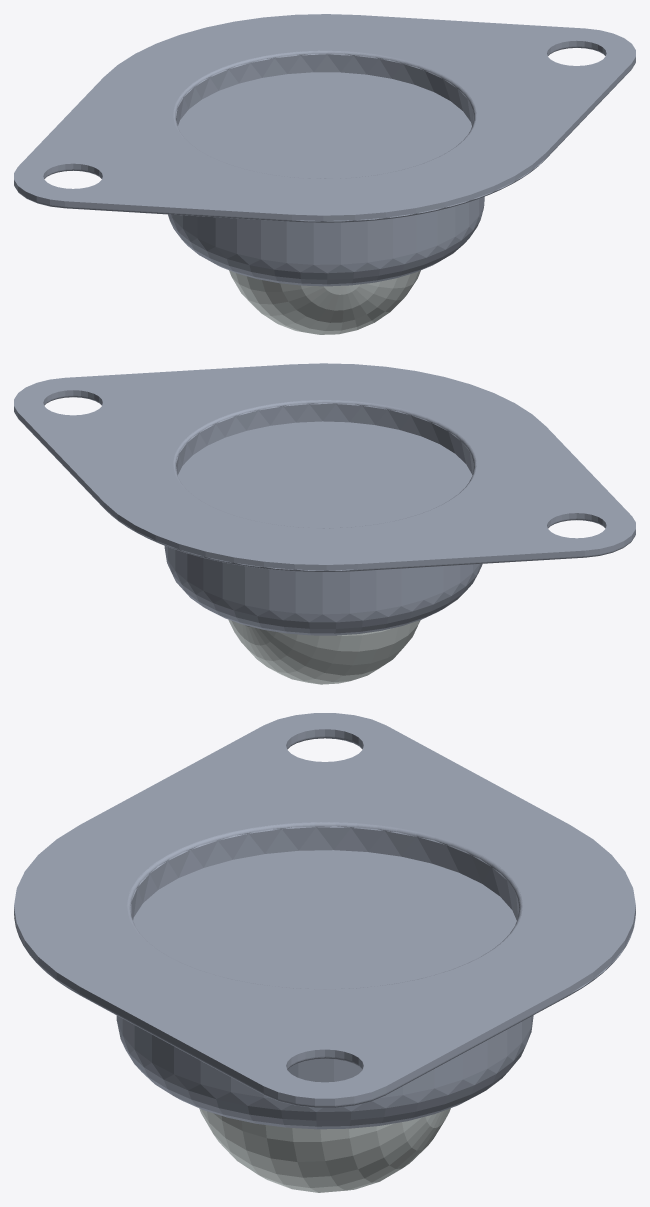
Rendered from caster_link.dae.
The picture shows the model from 3 angles, top to bottom: view 1: azimuth 30°, elevation 25°; view 2: azimuth 150°, elevation 25°; view 3: azimuth 270°, elevation 25°; orthographic projection. The views are drawn at different scales.
Parts seen in each view (by area): view 1: node_27ebc793_83b4_4cf2_ad4f_aabd8bd495b1_mesh0; view 2: node_27ebc793_83b4_4cf2_ad4f_aabd8bd495b1_mesh0; view 3: node_27ebc793_83b4_4cf2_ad4f_aabd8bd495b1_mesh0.
Boxes of the visible parts, bbox=[...] form: node_27ebc793_83b4_4cf2_ad4f_aabd8bd495b1_mesh0: bbox=[14, 14, 635, 334]; node_27ebc793_83b4_4cf2_ad4f_aabd8bd495b1_mesh0: bbox=[14, 363, 635, 684]; node_27ebc793_83b4_4cf2_ad4f_aabd8bd495b1_mesh0: bbox=[14, 713, 635, 1192].
Bounding box in the file's own units: 46.93 × 32 × 15.56.
